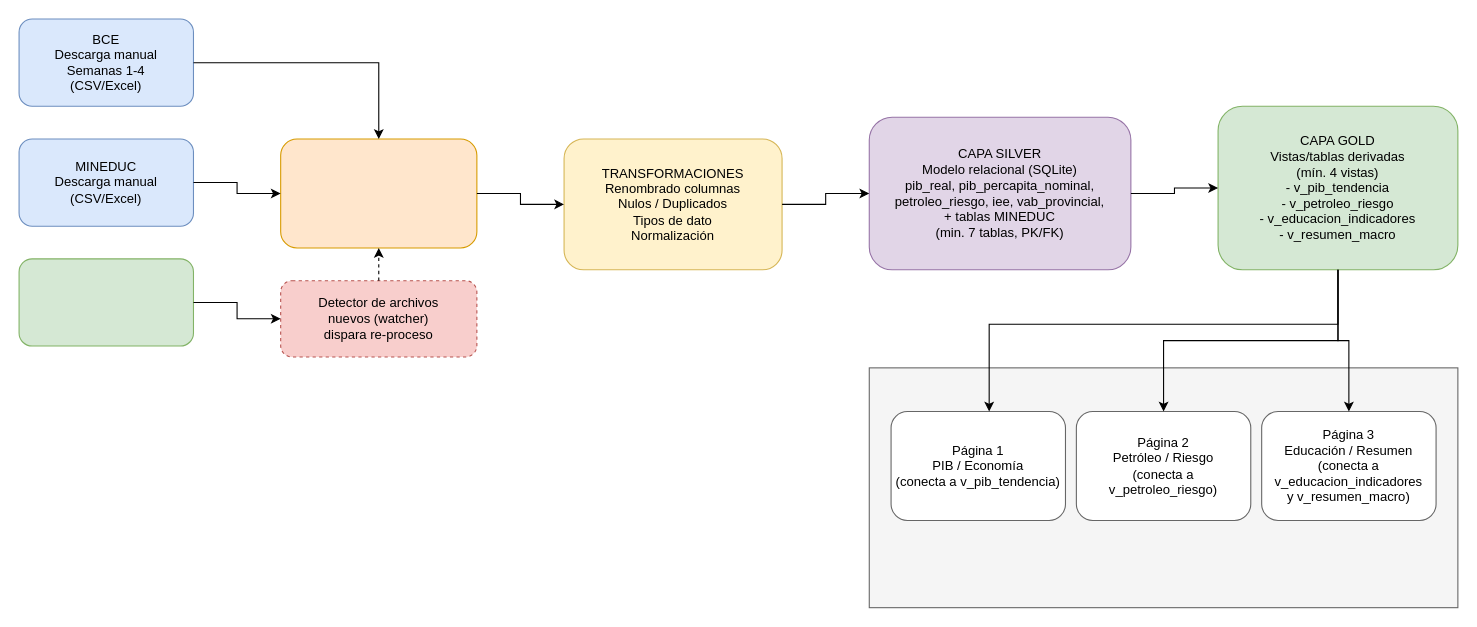
This 1477x627 diagram has some shape labels left out. Here are the shapes that lost their labels. From the top down, the box of each, then its label:
(280, 138, 477, 248): CAPA BRONZE Archivos crudos (sin transformar)
(18, 258, 193, 346): Carpeta RPA Deposita archivos Semanas 5-7
(868, 367, 1458, 608): DASHBOARD
